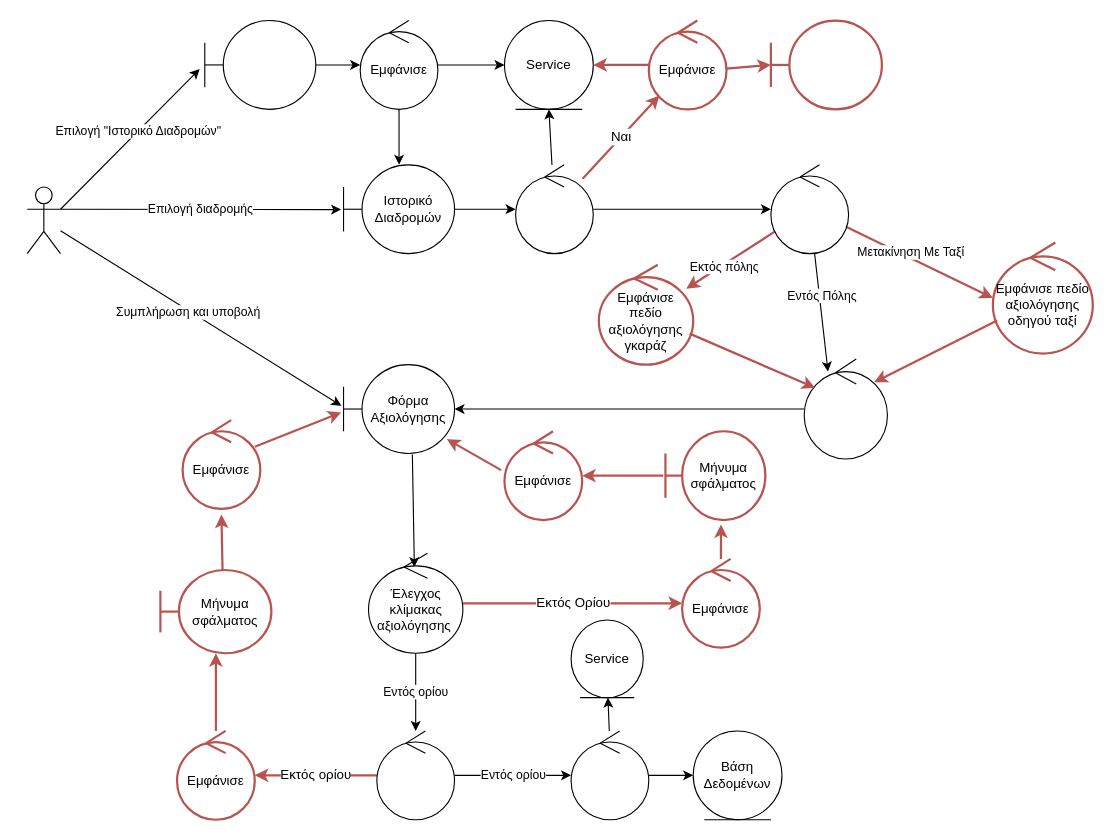
This 1113x839 diagram has some shape labels left out. The shapes that lost their labels are listed below. From the top down, each one's box as (x1, y1, x2, y2) in pixels, then its label:
(204, 19, 316, 109): Αρχική οθόνη
(769, 19, 882, 110): Aξιολόγηση διαδρομής
(26, 186, 60, 254): Πελάτης
(514, 164, 593, 254): Έχει ήδη αξιολογηθεί;
(770, 164, 849, 254): Έλεγχος τύπου διαδρομής
(803, 358, 887, 459): Εμφάνιση επιλογών αξιολόγης οχήματος
(376, 730, 455, 820): Έλεγχος μεγέθους σχολίων
(570, 730, 649, 820): Αποθήκευση
